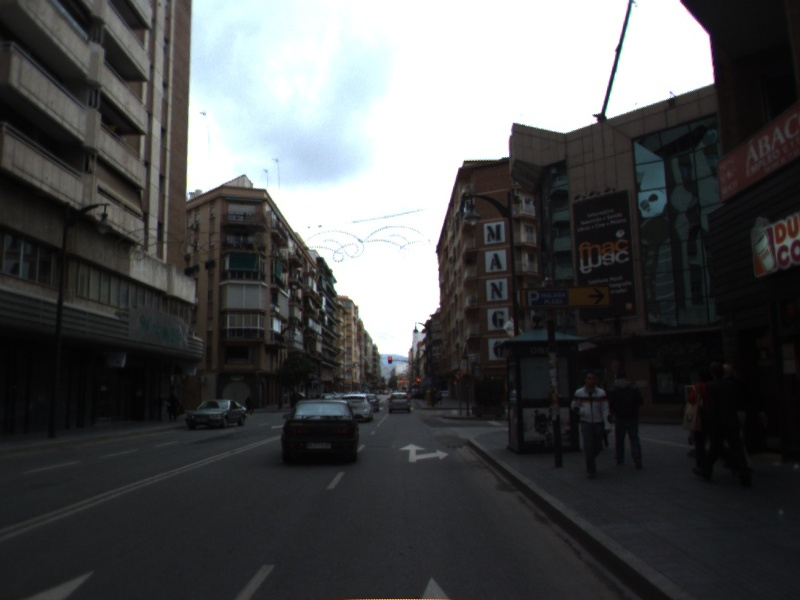STRAIGHT_RIGHT: (397, 441, 451, 464)
